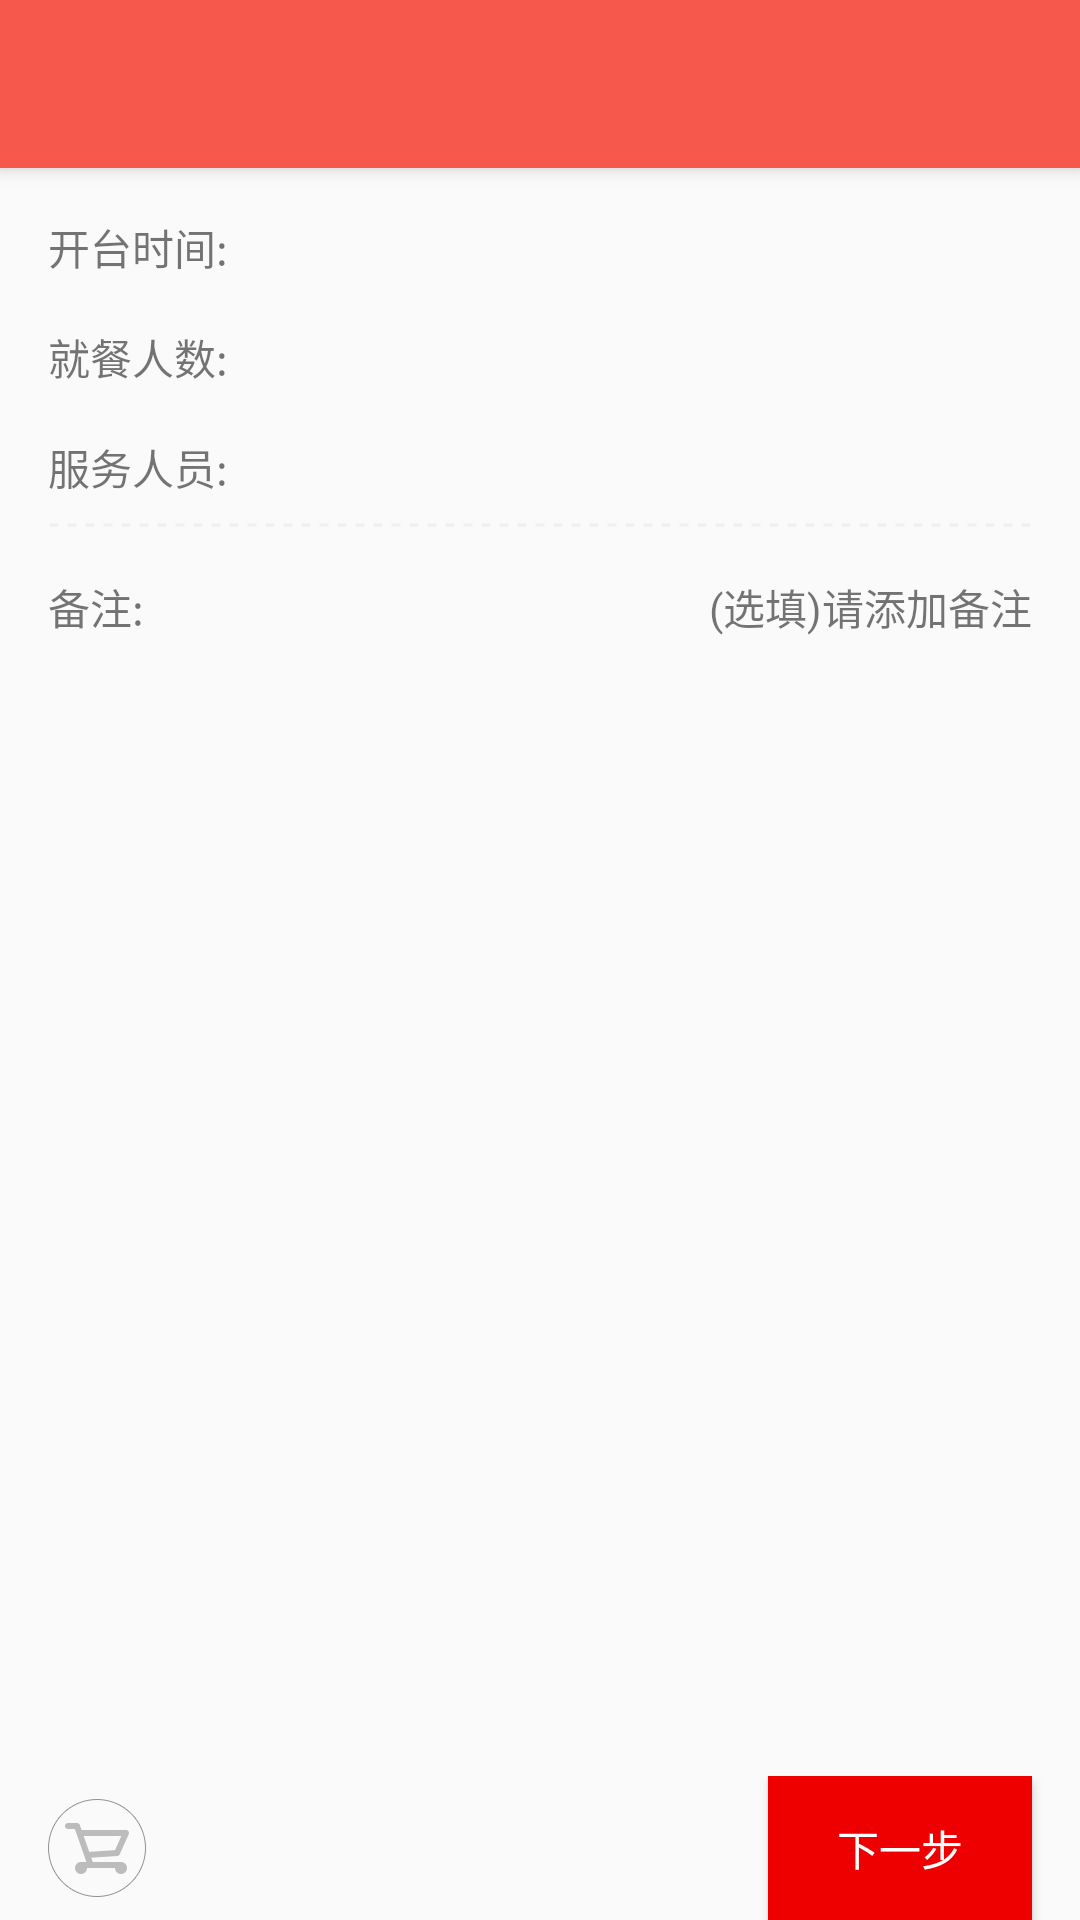

Icons on this 1080px x 1920px Android screen, each with the point to tap as point (x, y):
shopping: point (97, 1848)
